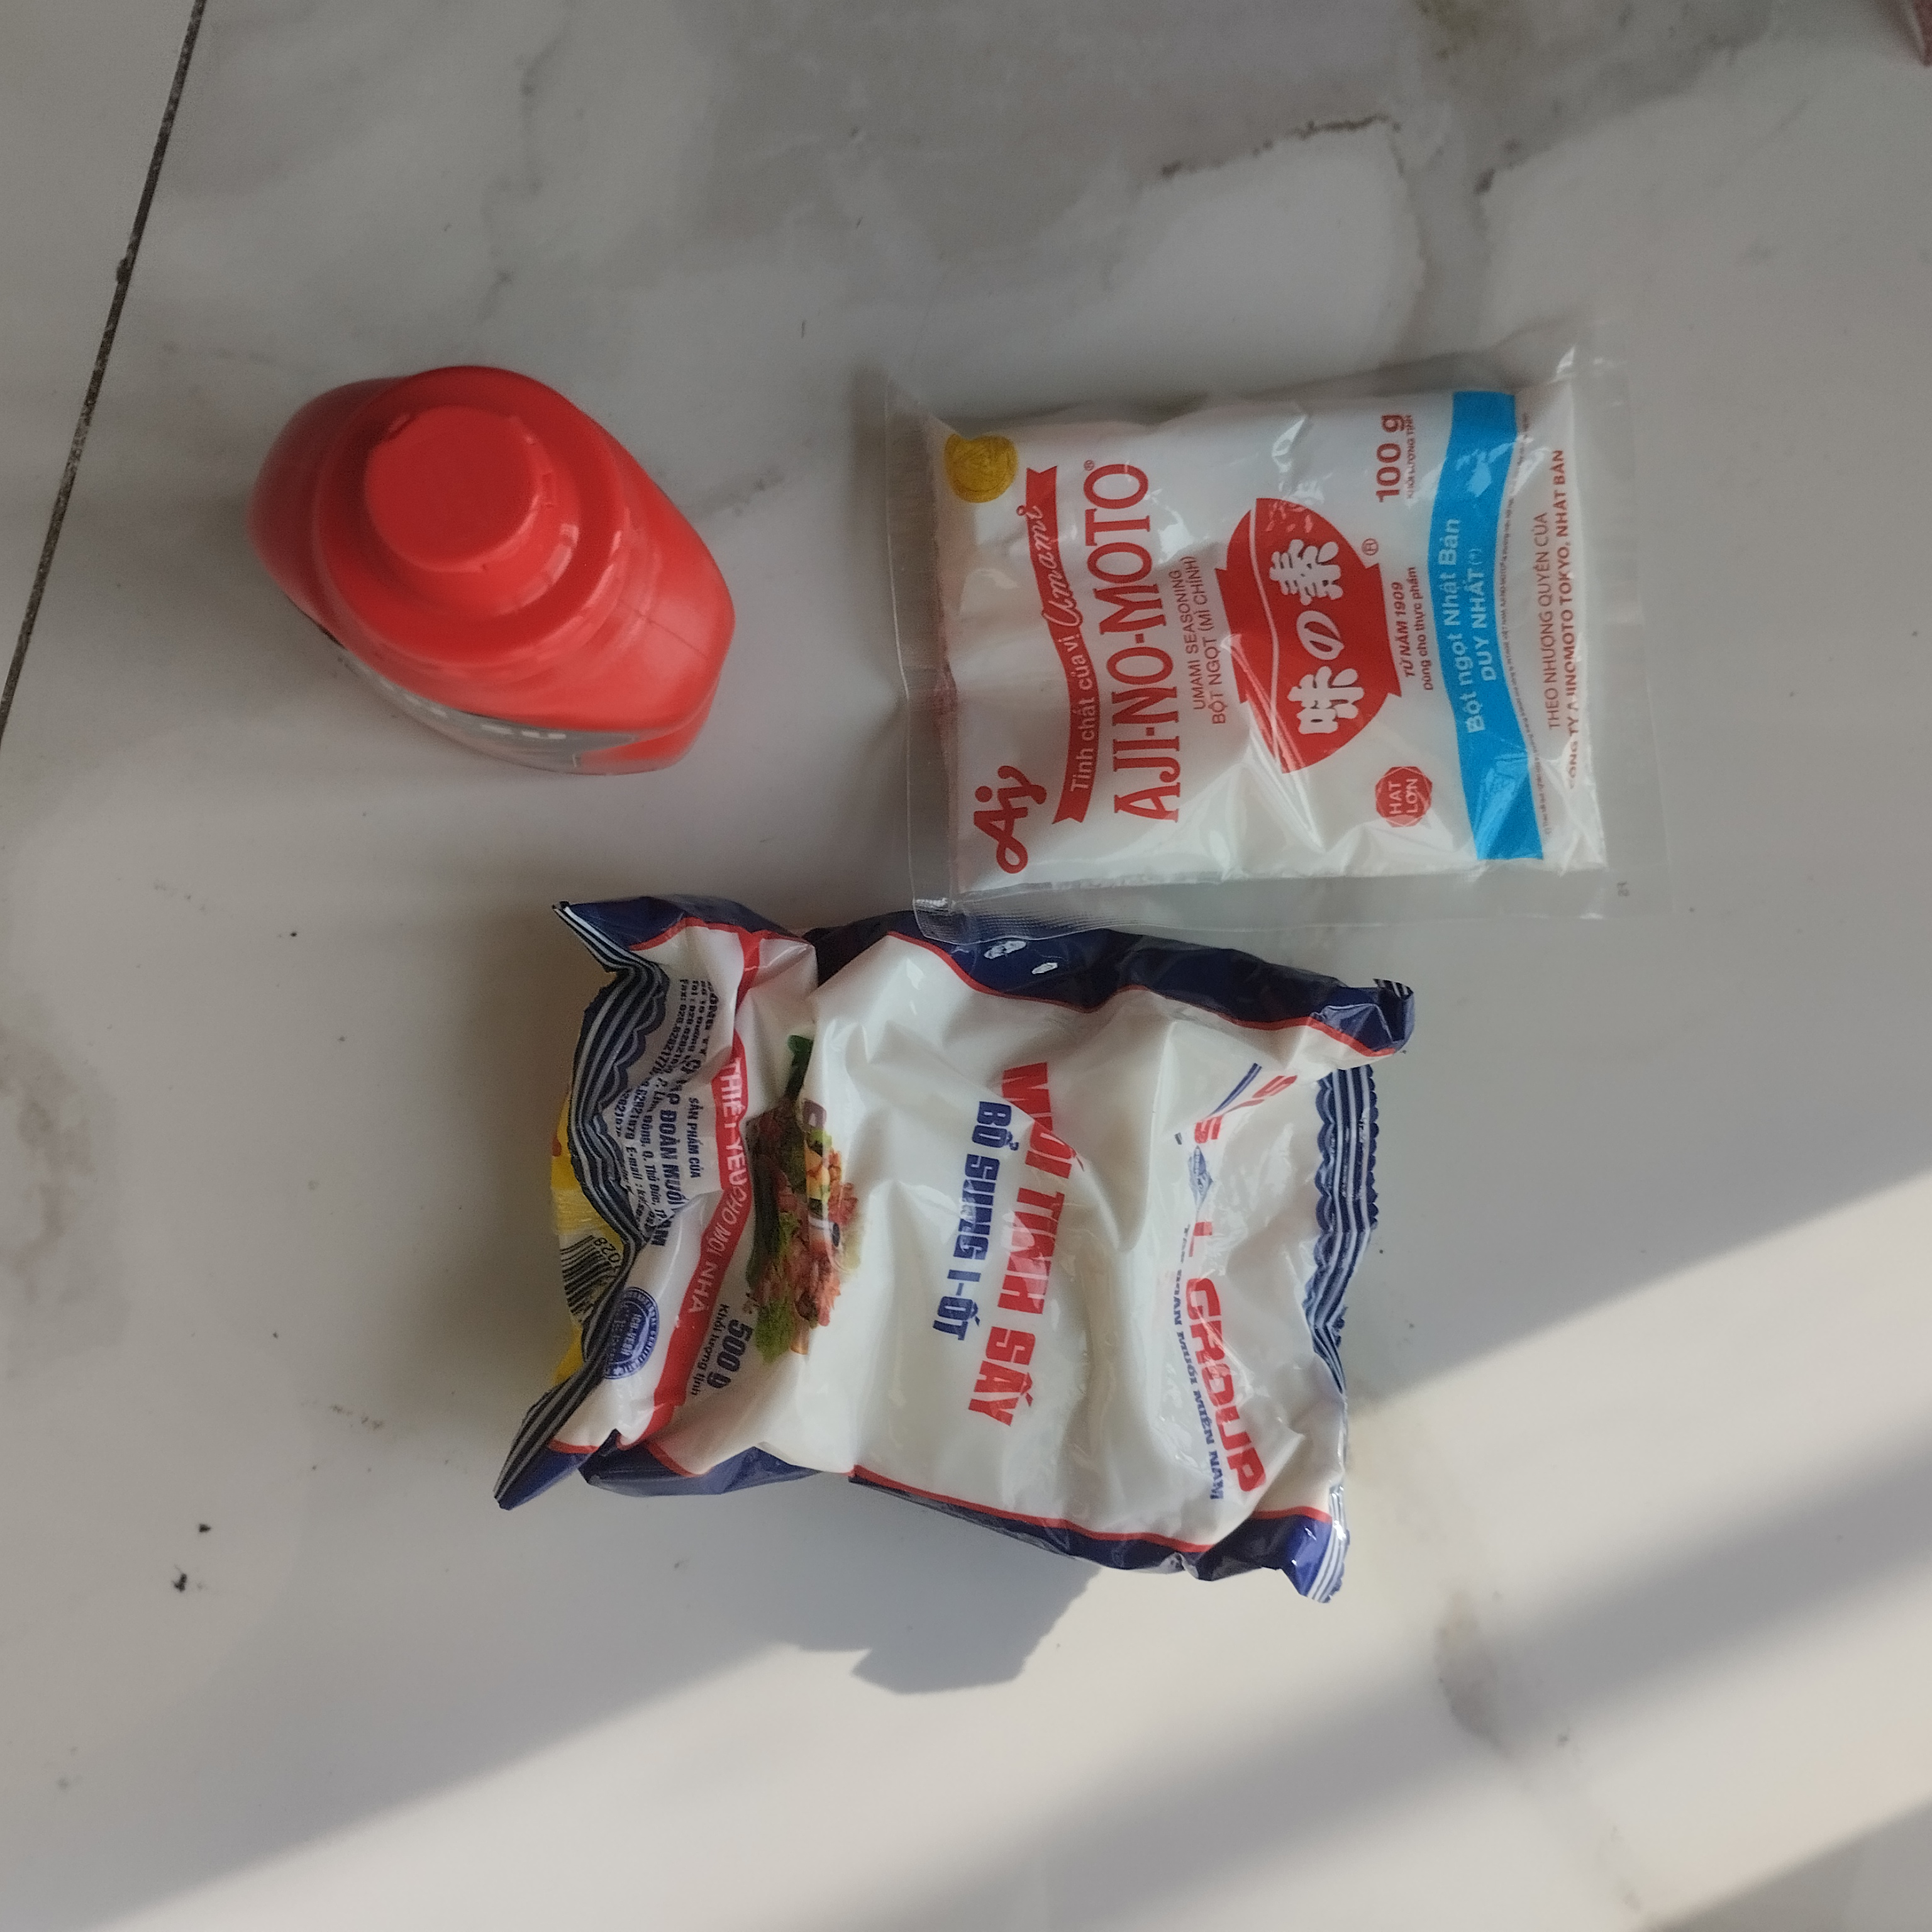Ajinomoto: (862, 349, 1640, 902)
Chinsu: (241, 352, 747, 819)
Salt: (492, 867, 1407, 1601)
